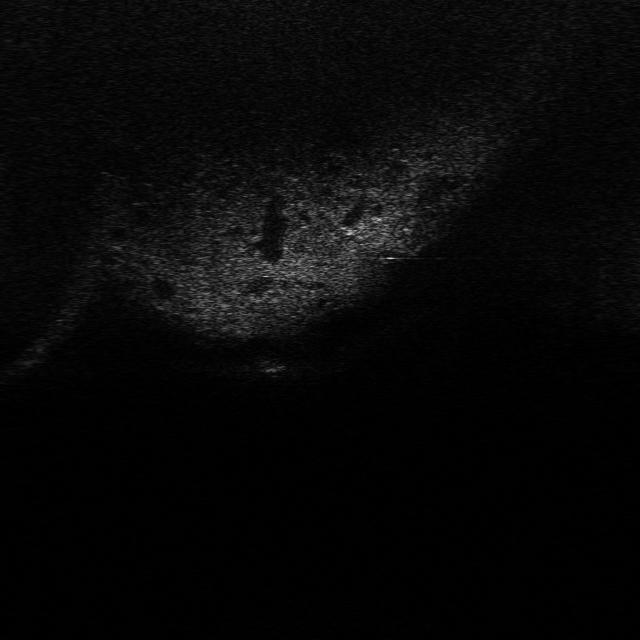cube: (249, 348, 292, 378)
